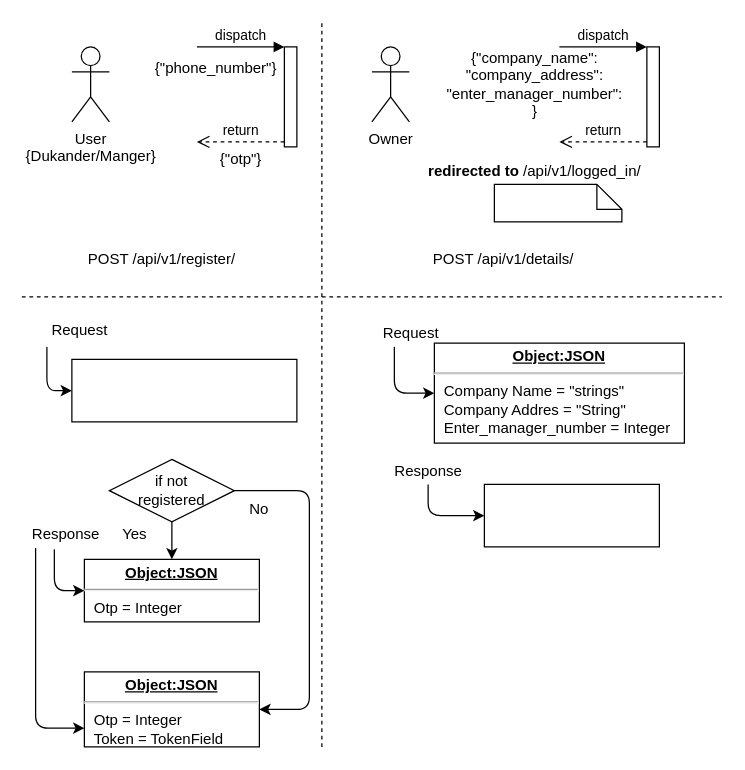
Some shapes in this 745 by 770 pixel diagram are drawn without their labels. The shapes that lost their labels are listed below. From the top down, each one's centre as x and y in pixels, then its label:
pixel 557 202: Successful
pixel 184 390: Object:JSON Phone Number = IntegerField
pixel 571 515: Object:JSON Token = TokenField
